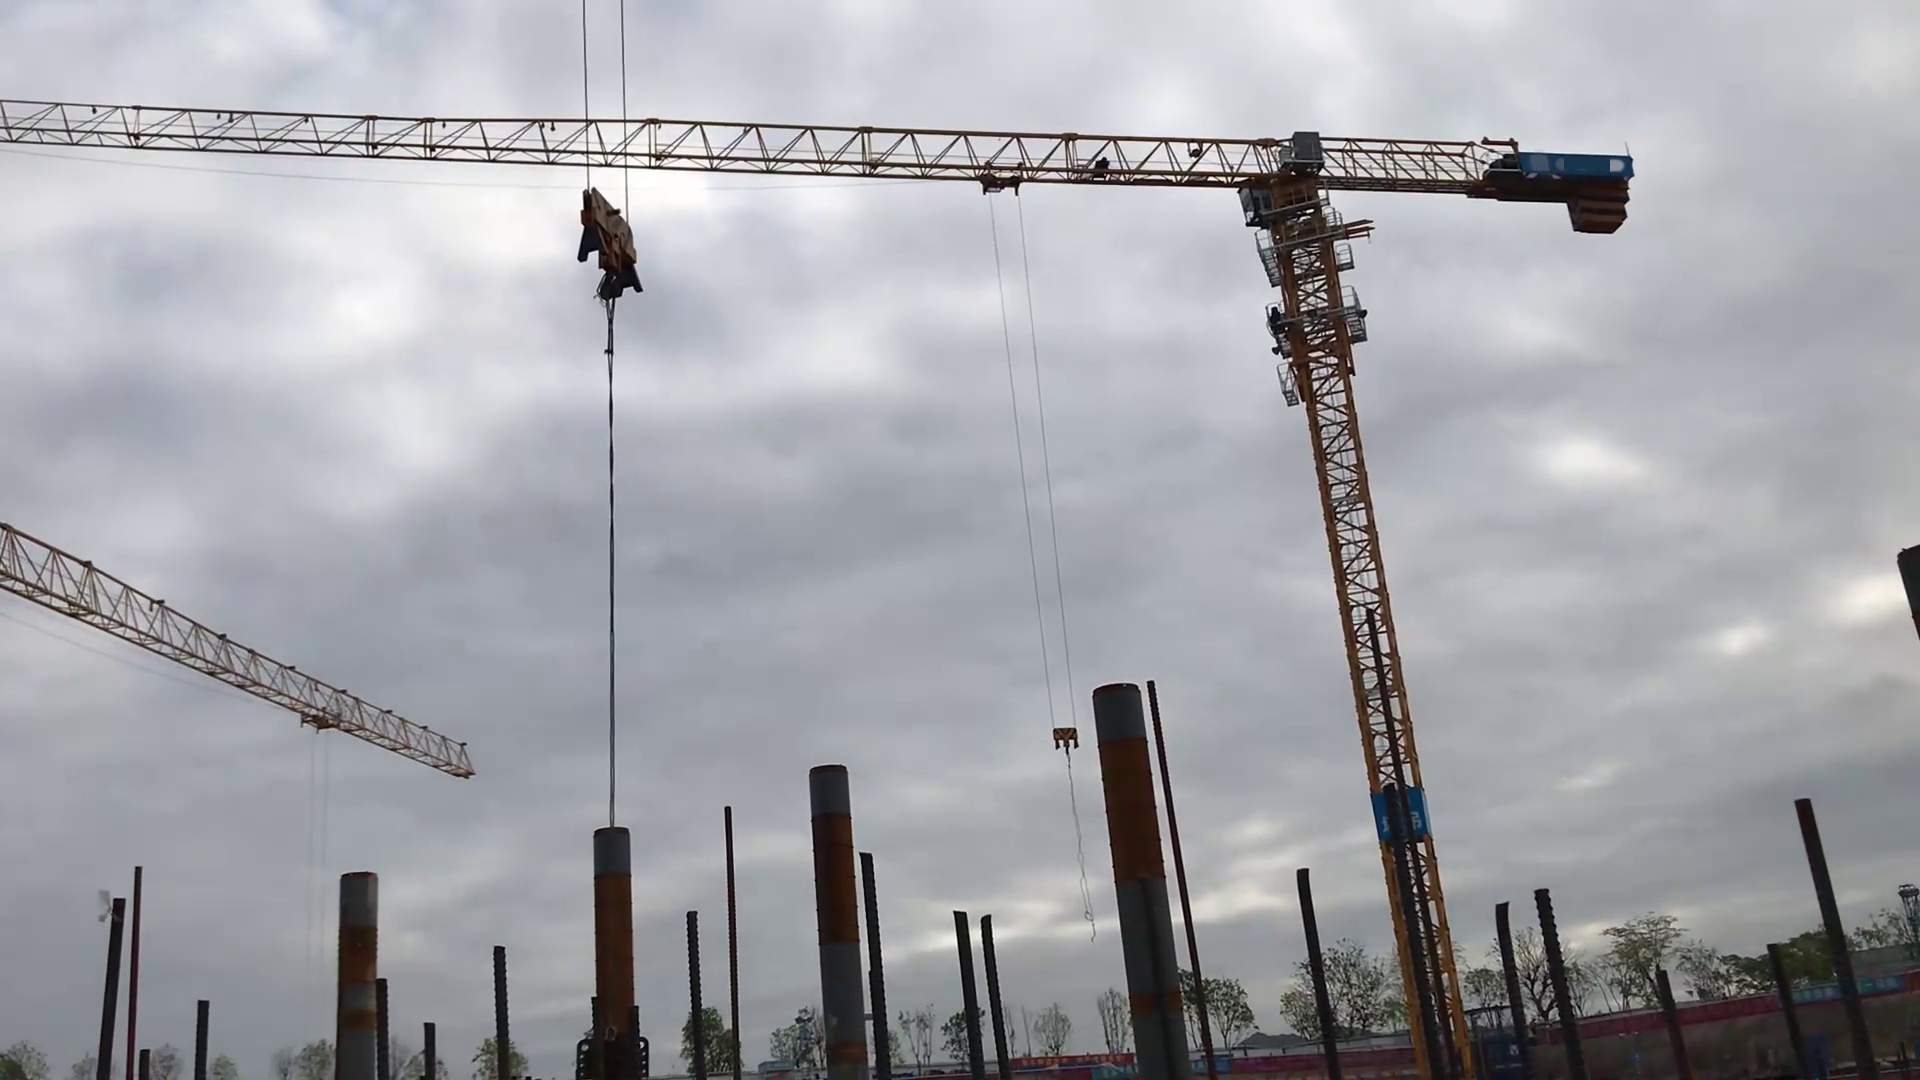hook: (559, 187, 661, 324), (1046, 723, 1089, 767)
